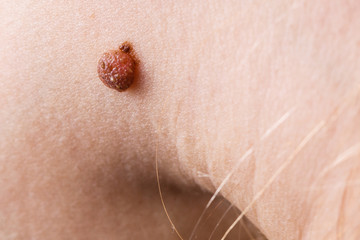melanoma: (71, 32, 173, 111)
